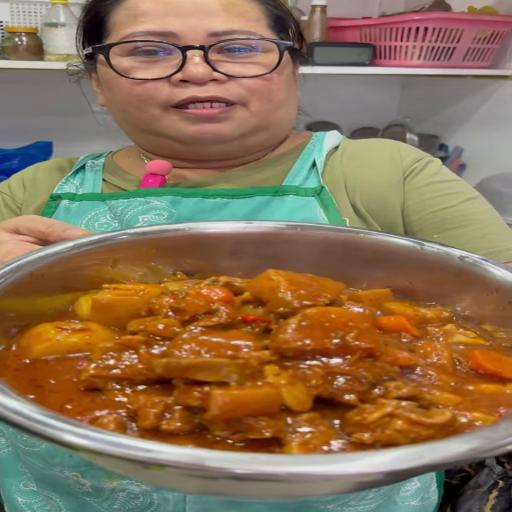pork caldereta: (8, 266, 511, 443)
